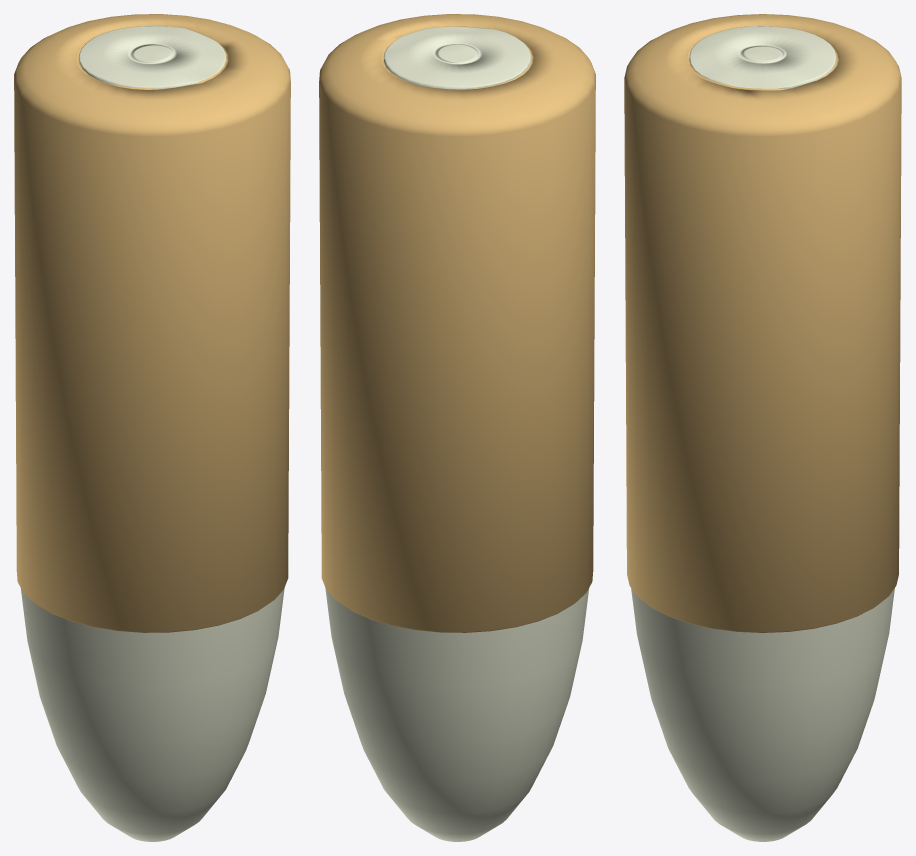
The model's file is BulletTank.fbx.
The picture shows the model from 3 angles, left to right: view 1: azimuth 30°, elevation 25°; view 2: azimuth 150°, elevation 25°; view 3: azimuth 270°, elevation 25°; orthographic projection.
Parts seen in each view (by area): view 1: Sphere.002, Sphere.001, Sphere.003; view 2: Sphere.002, Sphere.001, Sphere.003; view 3: Sphere.002, Sphere.001, Sphere.003.
Part boxes in pixels (x1=…): Sphere.002: x1=14, y1=14, x2=290, y2=632; Sphere.001: x1=20, y1=588, x2=284, y2=841; Sphere.003: x1=79, y1=26, x2=226, y2=88; Sphere.002: x1=319, y1=14, x2=595, y2=632; Sphere.001: x1=325, y1=588, x2=589, y2=841; Sphere.003: x1=384, y1=26, x2=531, y2=89; Sphere.002: x1=624, y1=14, x2=901, y2=632; Sphere.001: x1=631, y1=588, x2=894, y2=841; Sphere.003: x1=689, y1=26, x2=836, y2=88.
Bounding box in the file's own units: 395 × 1233 × 395.
